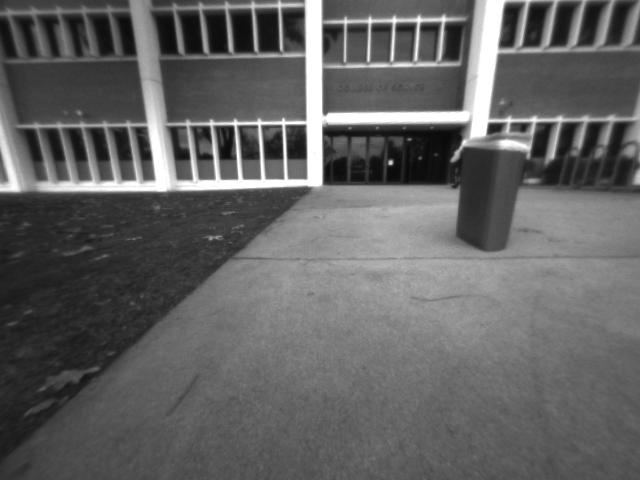trashcan_open: (447, 128, 542, 262)
